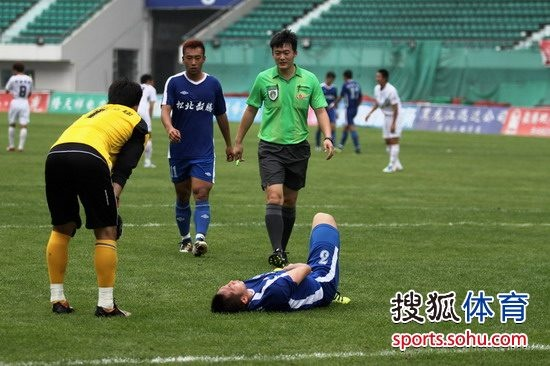falling: (207, 206, 358, 316)
